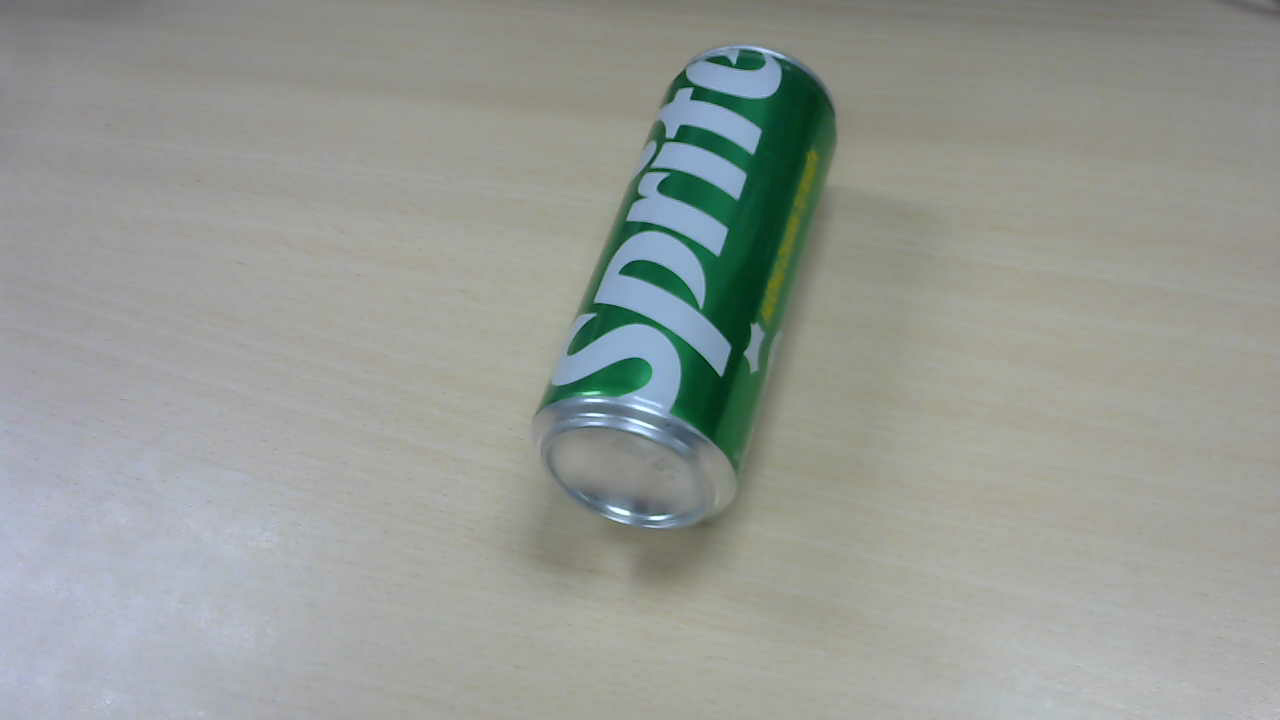Sprite: (544, 54, 841, 524)
